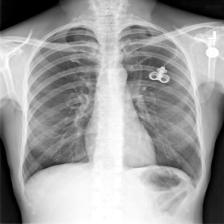normal: (18, 20, 206, 192)
